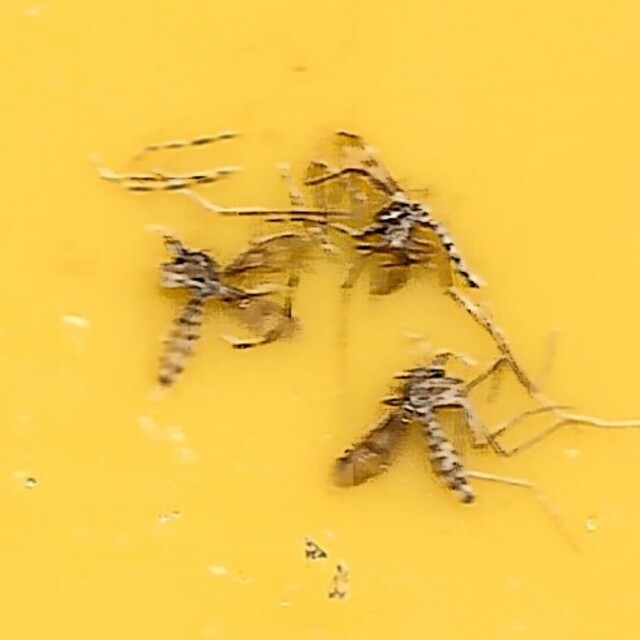Nematocera: (319, 131, 492, 319), (145, 234, 303, 401), (332, 358, 495, 509)
